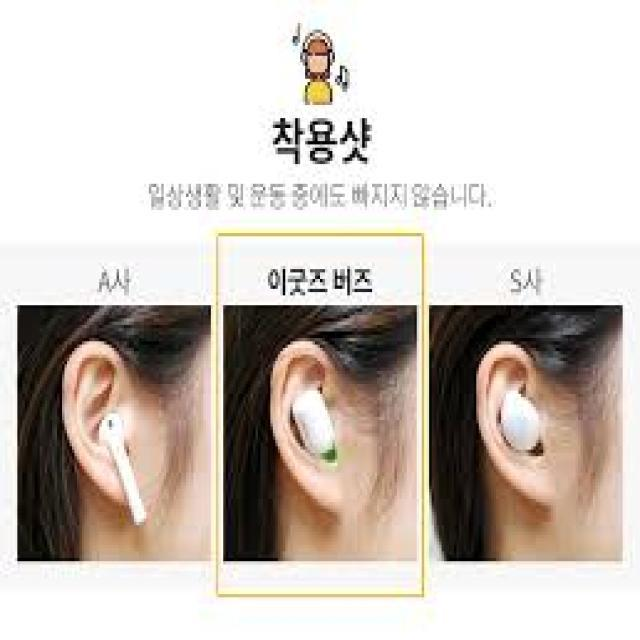earphone: (75, 390, 174, 532), (261, 366, 351, 470), (494, 380, 555, 472)
